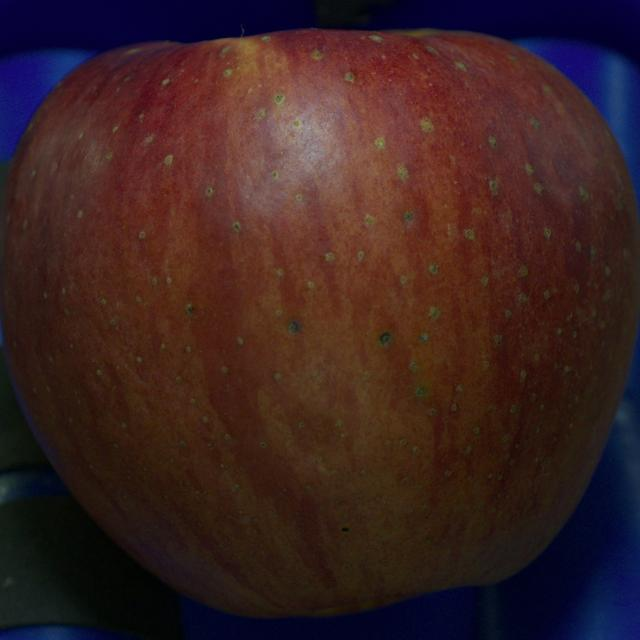apple: (0, 30, 639, 616)
pest: (288, 319, 301, 333), (380, 332, 390, 345), (186, 303, 194, 314), (342, 528, 349, 531)
